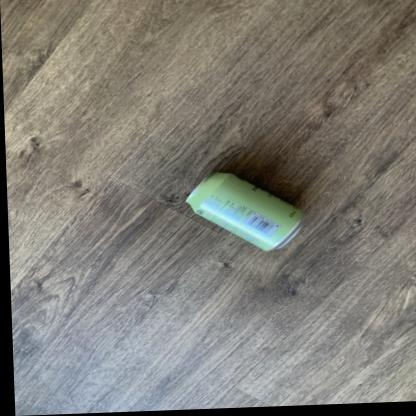trash: (186, 173, 302, 250)
